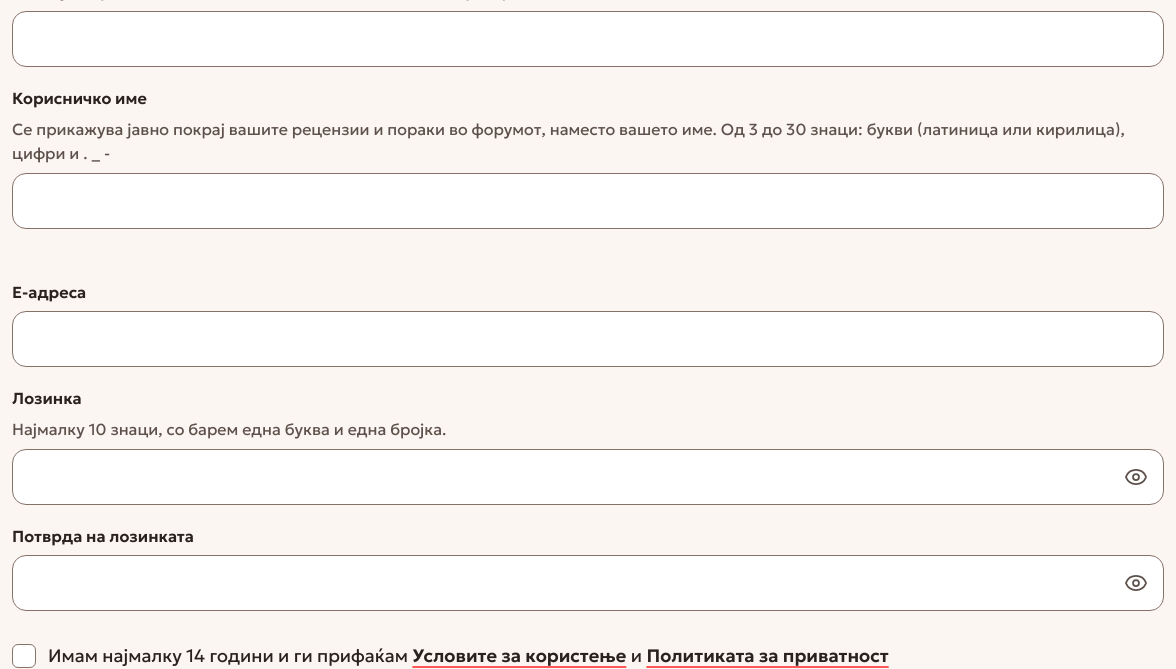
Test case: RegisterForm › says the password rules in its own words when the API rejects the password
Type "Ана" into the field labelled "Име и презиме".
click(588, 39); type("Ана")  # box [12, 11, 1164, 67]
Type "ana@example.mk" into the field labelled "Е-адреса".
click(588, 339); type("ana@example.mk")  # box [12, 311, 1164, 367]
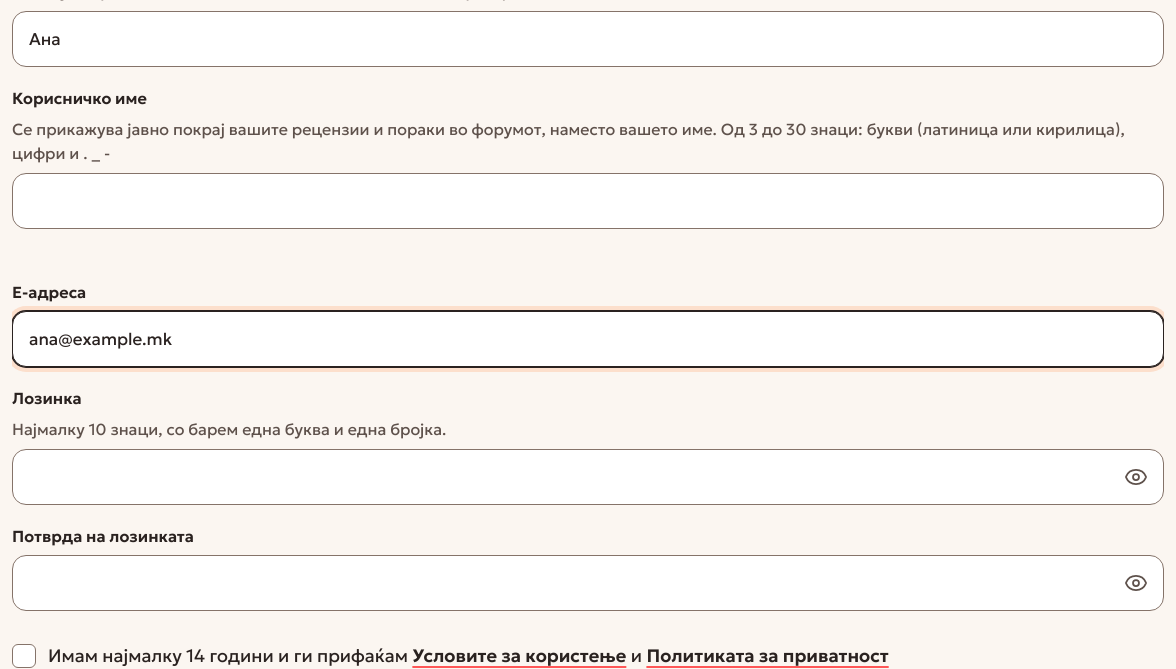
Type "kratka" into the password field labelled "Лозинка".
click(588, 477); type("kratka")  # box [12, 449, 1164, 505]
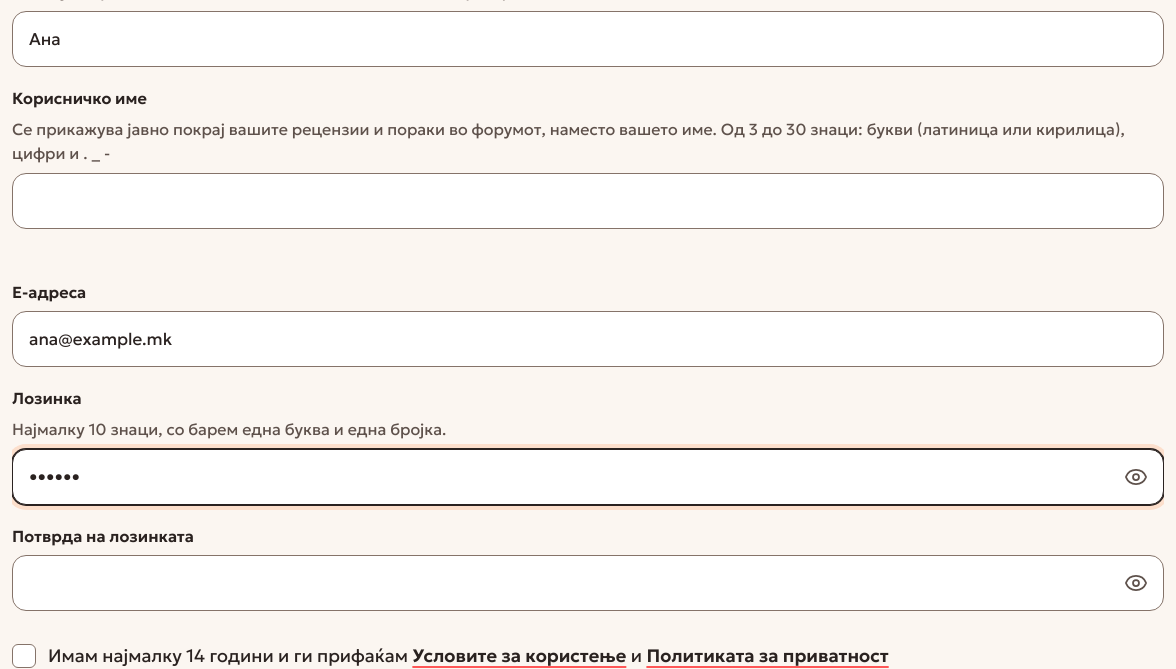
Type "kratka" into the password field labelled "Потврда на лозинката".
click(588, 583); type("kratka")  # box [12, 555, 1164, 611]
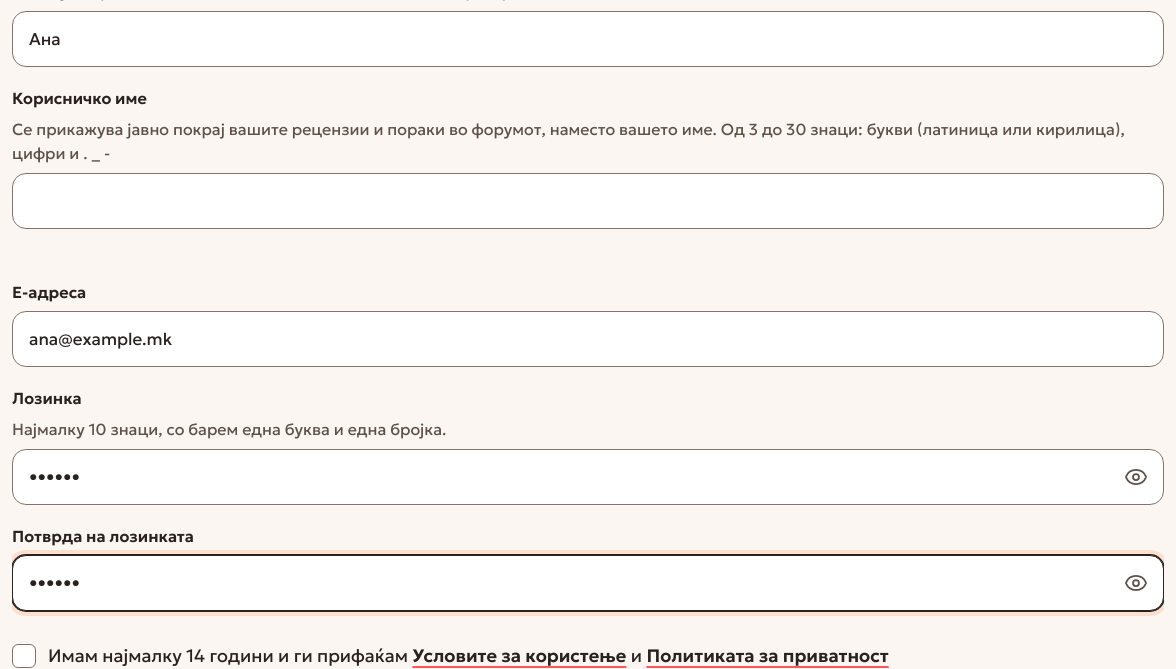
Click the checkbox.
click(24, 656)  # box [12, 644, 36, 668]
(page scrolled)
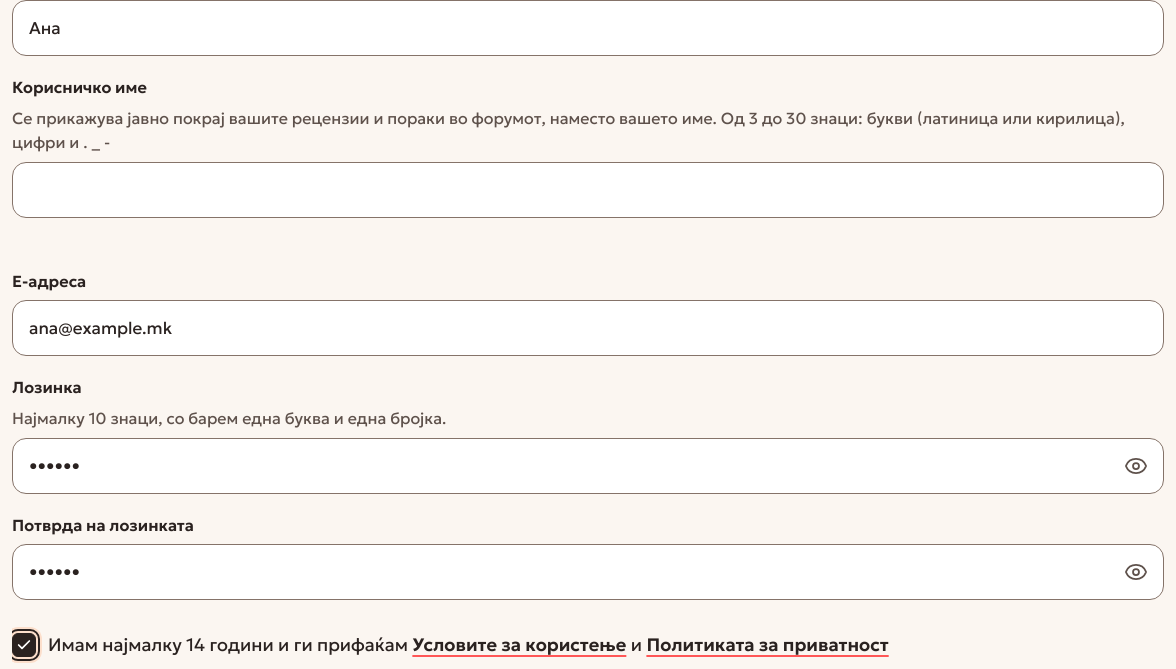
Type "ana_bt" into the field labelled "Корисничко име".
click(588, 190); type("ana_bt")  # box [12, 162, 1164, 218]
(page scrolled)
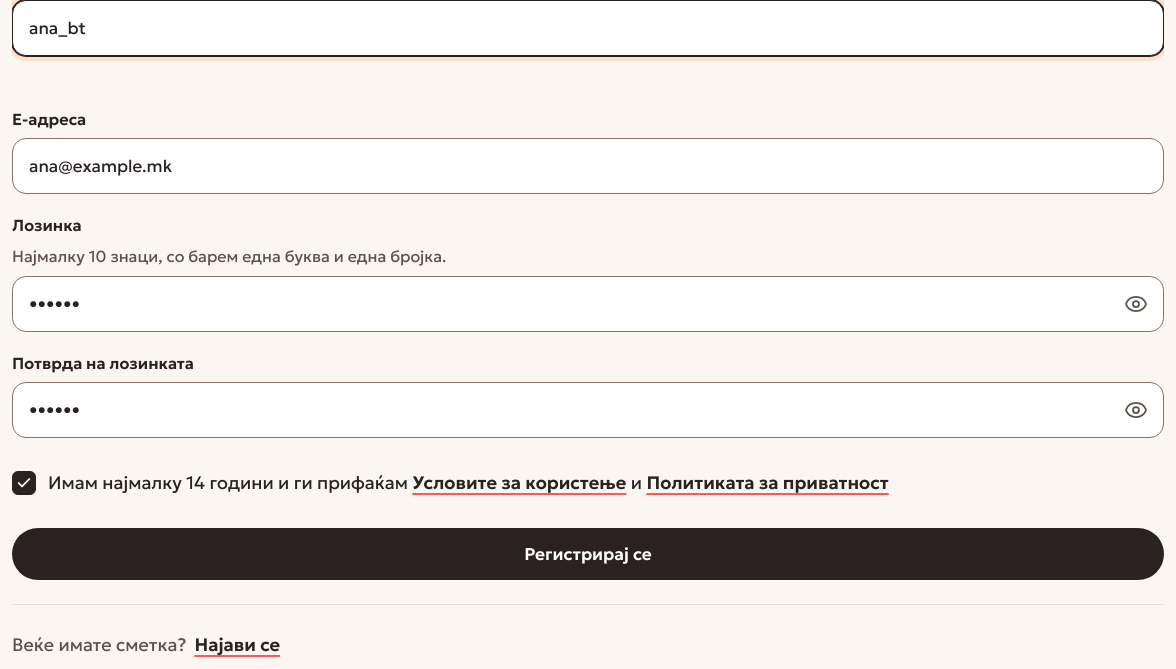
Click the button "Регистрирај се".
click(588, 554)  # box [12, 528, 1164, 580]
(page scrolled)
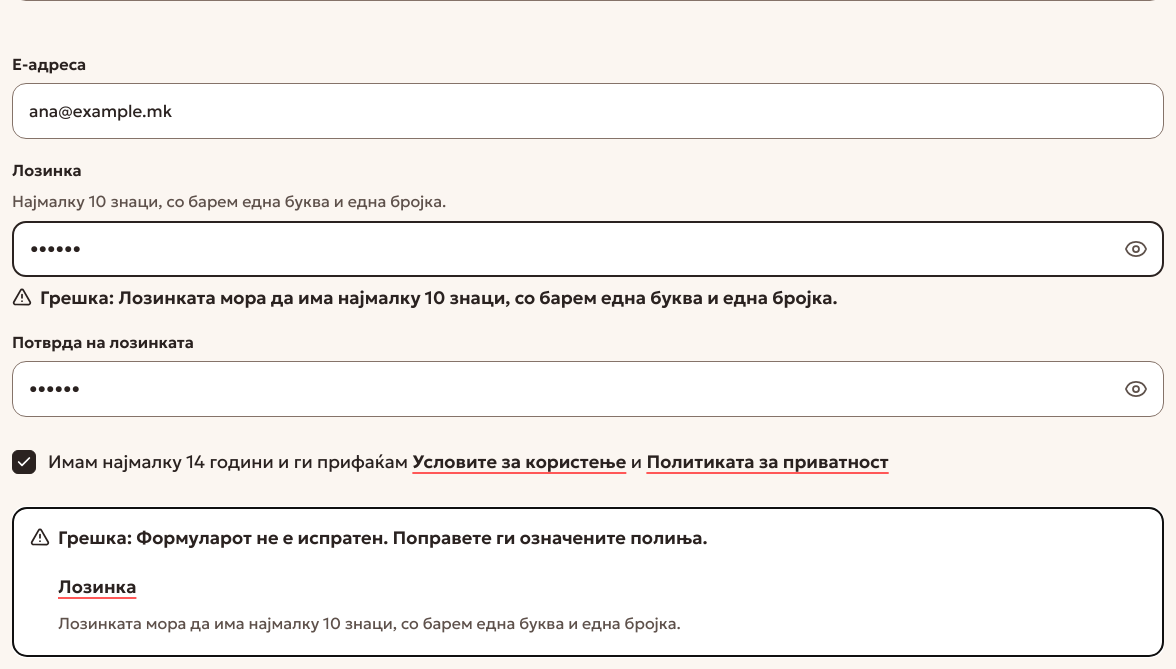
Check: the message that starts with "Грешка:" shows "Лозинката мора да има најмалку 10 знаци, со барем една буква и една бројка.", box [58, 613, 681, 633]
